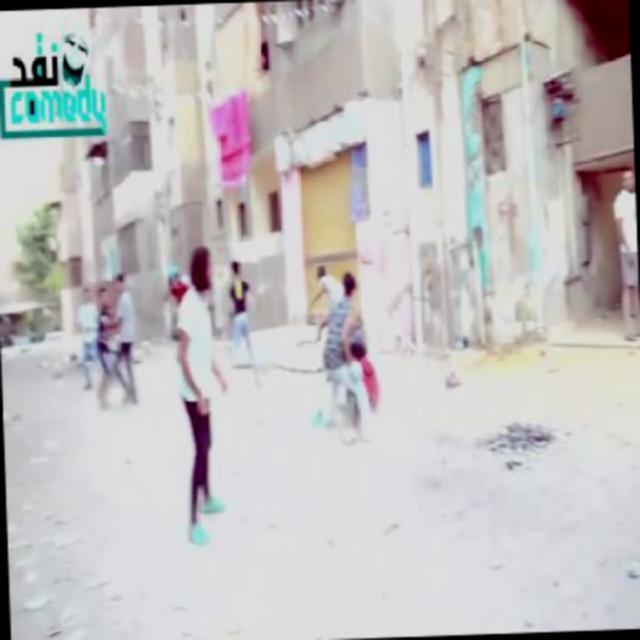fight: (316, 273, 378, 449)
non-fight: (171, 245, 234, 544)
